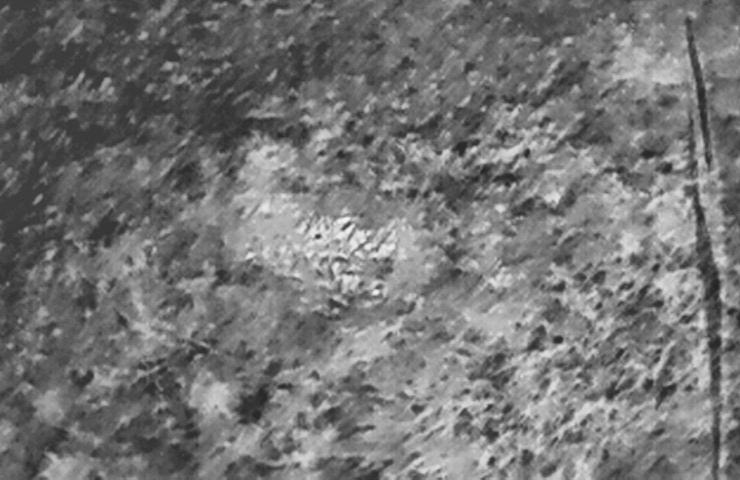landmines: (233, 191, 411, 293)
